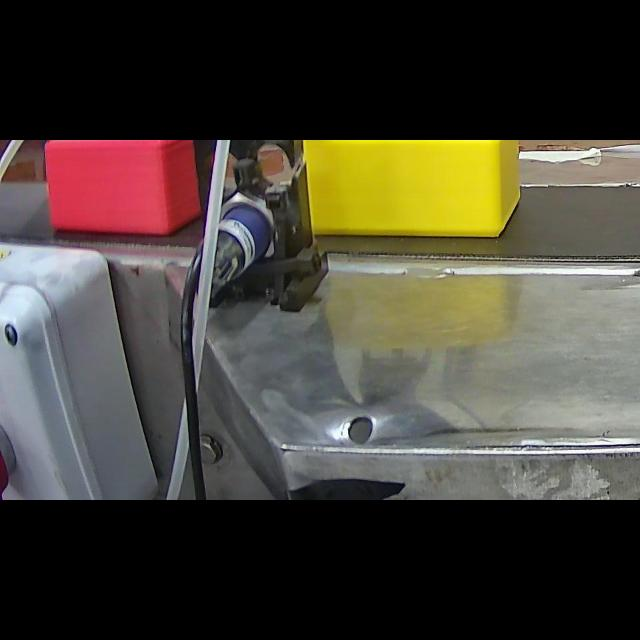redBox: (42, 140, 234, 236)
yellowBox: (304, 140, 522, 240)
